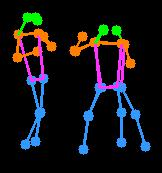normal: (67, 18, 152, 159), (7, 6, 63, 159)
